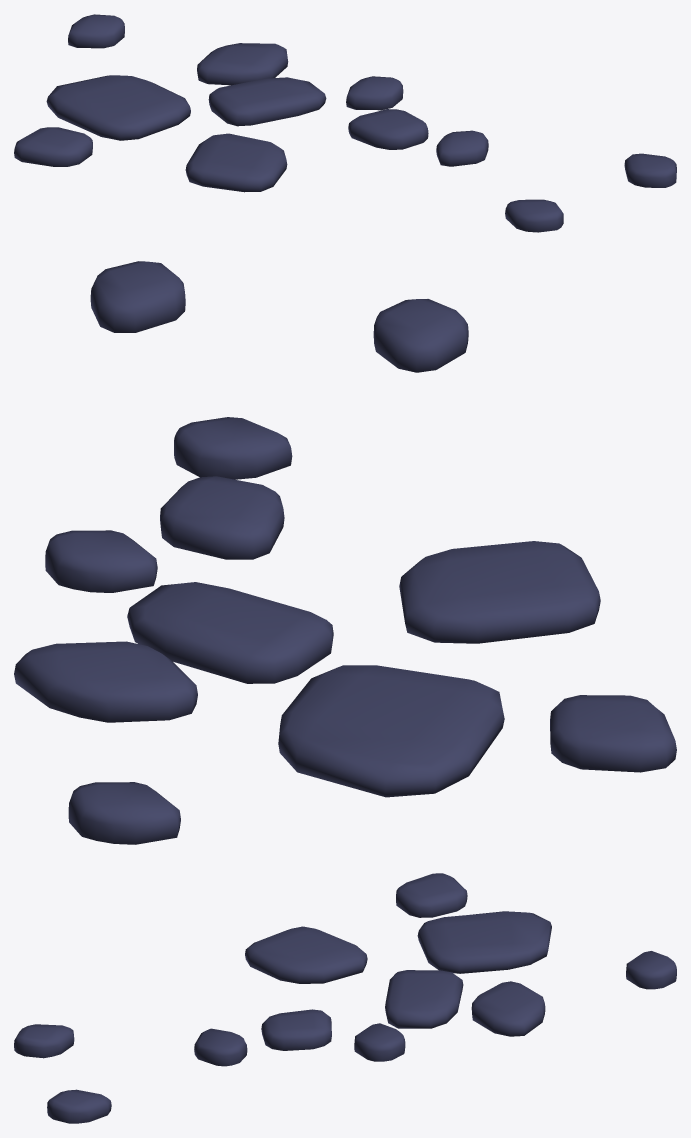
Rendered from SM_Prop_Pebbles1.fbx.
The picture shows the model from 3 angles, top to bottom: view 1: azimuth 30°, elevation 25°; view 2: azimuth 150°, elevation 25°; view 3: azimuth 270°, elevation 25°; orthographic projection. The views are drawn at different scales.
Visible parts, largest first — view 1: SM_Prop_Pebbles1; view 2: SM_Prop_Pebbles1; view 3: SM_Prop_Pebbles1.
Part boxes in pixels (<box>): SM_Prop_Pebbles1: <box>14,14,676,232</box>; SM_Prop_Pebbles1: <box>14,261,676,844</box>; SM_Prop_Pebbles1: <box>14,873,676,1123</box>.
Bounding box in the file's own units: 426 × 13.03 × 499.
